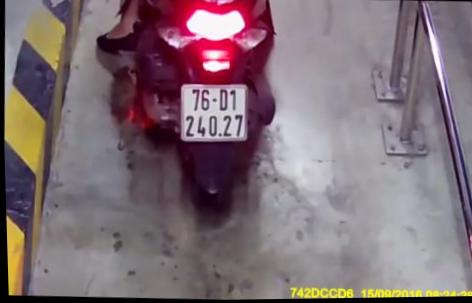LP: (176, 82, 251, 145)
